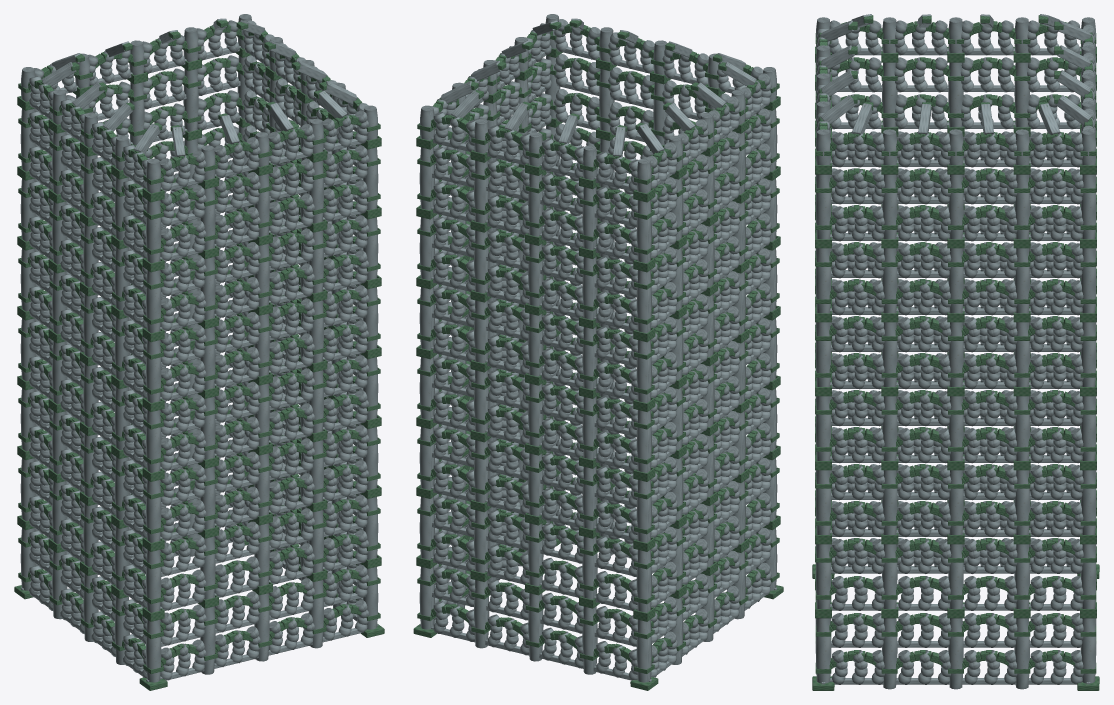
The picture shows the model from 3 angles, left to right: view 1: azimuth 30°, elevation 25°; view 2: azimuth 150°, elevation 25°; view 3: azimuth 270°, elevation 25°; orthographic projection. The views are drawn at different scales.
Visible parts, largest first — view 1: Tier 1 side 0 post 0, Tier 3 side 0 post 0, Tier 0 side 0 post 0, Tier 6 side 0 post 0, Tier 4 side 0 post 0, Tier 5 side 0 post 0, Tier 2 side 0 post 0, Tier 6 side 2 post 1, Tier 6 side 2 post 2, Tier 0 side 0 post 1, Tier 0 side 0 post 2, Tier 0 side 0 post 3 (+28 smaller); view 2: Tier 0 side 3 post 0, Tier 1 side 3 post 0, Tier 3 side 3 post 0, Tier 4 side 3 post 0, Tier 6 side 3 post 0, Tier 5 side 3 post 0, Tier 0 side 2 post 3, Tier 2 side 3 post 0, Tier 0 side 2 post 2, Tier 0 side 2 post 1, Tier 0 side 2 post 0, Tier 3 side 2 post 0 (+25 smaller); view 3: Tier 3 side 1 post 0, Tier 5 side 1 post 0, Tier 6 side 1 post 0, Tier 0 side 1 post 1, Tier 0 side 1 post 2, Tier 1 side 1 post 0, Tier 2 side 1 post 0, Tier 0 side 1 post 0, Tier 4 side 1 post 0, Tier 0 side 1 post 3, Tier 6 side 2 post 0, Tier 5 side 2 post 0 (+34 smaller).
Part boxes in pixels (x1,y1,x2,y2): Tier 1 side 0 post 0: (146,549,161,612); Tier 3 side 0 post 0: (146,410,161,472); Tier 0 side 0 post 0: (146,619,161,682); Tier 6 side 0 post 0: (146,200,161,263); Tier 4 side 0 post 0: (146,340,161,403); Tier 5 side 0 post 0: (146,270,161,333); Tier 2 side 0 post 0: (146,480,161,542); Tier 6 side 2 post 1: (183,69,198,131); Tier 6 side 2 post 2: (129,82,144,145); Tier 0 side 0 post 1: (200,606,215,674); Tier 0 side 0 post 2: (254,593,269,661); Tier 0 side 0 post 3: (308,580,323,648); Tier 0 side 3 post 0: (636,619,651,682); Tier 1 side 3 post 0: (636,550,651,612); Tier 3 side 3 post 0: (636,410,651,472); Tier 4 side 3 post 0: (636,340,651,403); Tier 6 side 3 post 0: (636,200,651,263); Tier 5 side 3 post 0: (636,270,651,333); Tier 0 side 2 post 3: (582,606,597,674); Tier 2 side 3 post 0: (636,480,651,542); Tier 0 side 2 post 2: (528,593,543,661); Tier 0 side 2 post 1: (474,580,489,648); Tier 0 side 2 post 0: (419,566,434,629); Tier 3 side 2 post 0: (419,357,434,420); Tier 3 side 1 post 0: (815,396,831,460); Tier 5 side 1 post 0: (815,248,831,313); Tier 6 side 1 post 0: (815,174,831,239); Tier 0 side 1 post 1: (882,618,897,689); Tier 0 side 1 post 2: (948,618,963,689); Tier 1 side 1 post 0: (815,544,831,608); Tier 2 side 1 post 0: (815,470,831,534); Tier 0 side 1 post 0: (815,618,831,683); Tier 4 side 1 post 0: (815,322,831,386); Tier 0 side 1 post 3: (1014,618,1029,689); Tier 6 side 2 post 0: (1080,174,1096,239); Tier 5 side 2 post 0: (1080,248,1096,313).
Size of the model in its own units: 1.95 by 4.28 by 1.95.
Materials: 2 (2 with a texture image).
